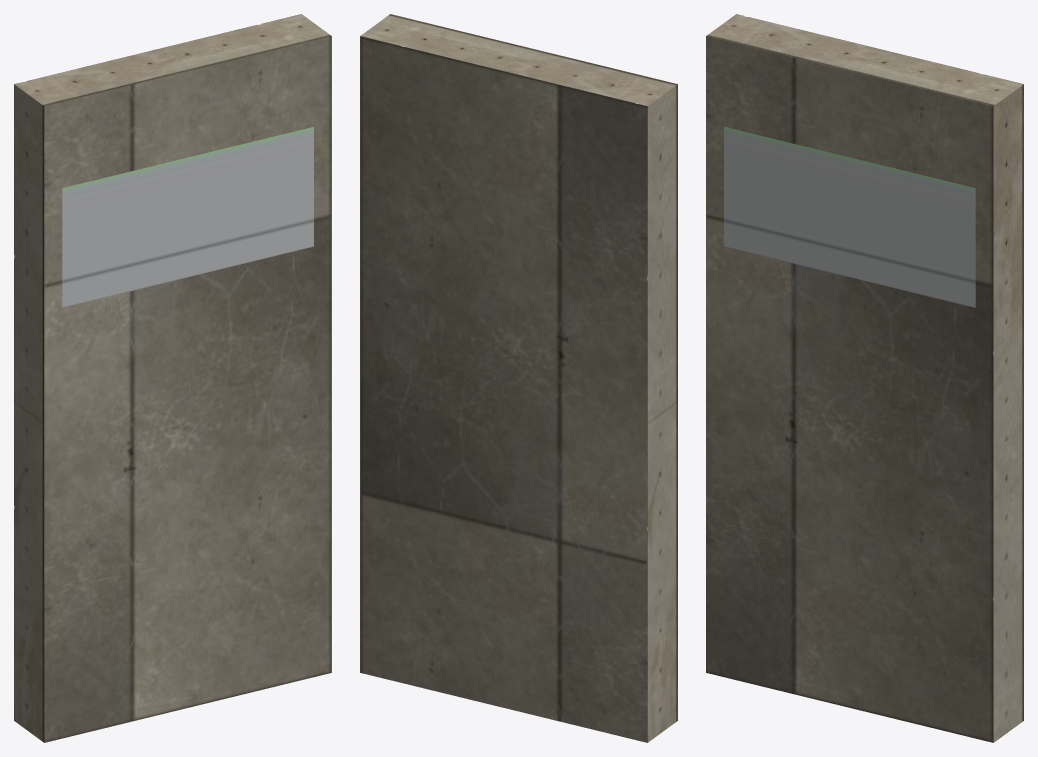
The model's file is entity14150.gltf.
The picture shows the model from 3 angles, left to right: view 1: azimuth 30°, elevation 25°; view 2: azimuth 150°, elevation 25°; view 3: azimuth 330°, elevation 25°; orthographic projection.
Parts seen in each view (by area): view 1: node_Artist_Sign_Hex (1); view 2: node_Artist_Sign_Hex (1); view 3: node_Artist_Sign_Hex (1).
Part boxes in pixels (box(x1,y1,x2,y2)): node_Artist_Sign_Hex (1): box(14, 14, 331, 742); node_Artist_Sign_Hex (1): box(360, 14, 677, 742); node_Artist_Sign_Hex (1): box(706, 14, 1023, 742).
Size of the model in its own units: 2.02 by 4.27 by 0.369.
Materials: 1 (1 with a texture image).
